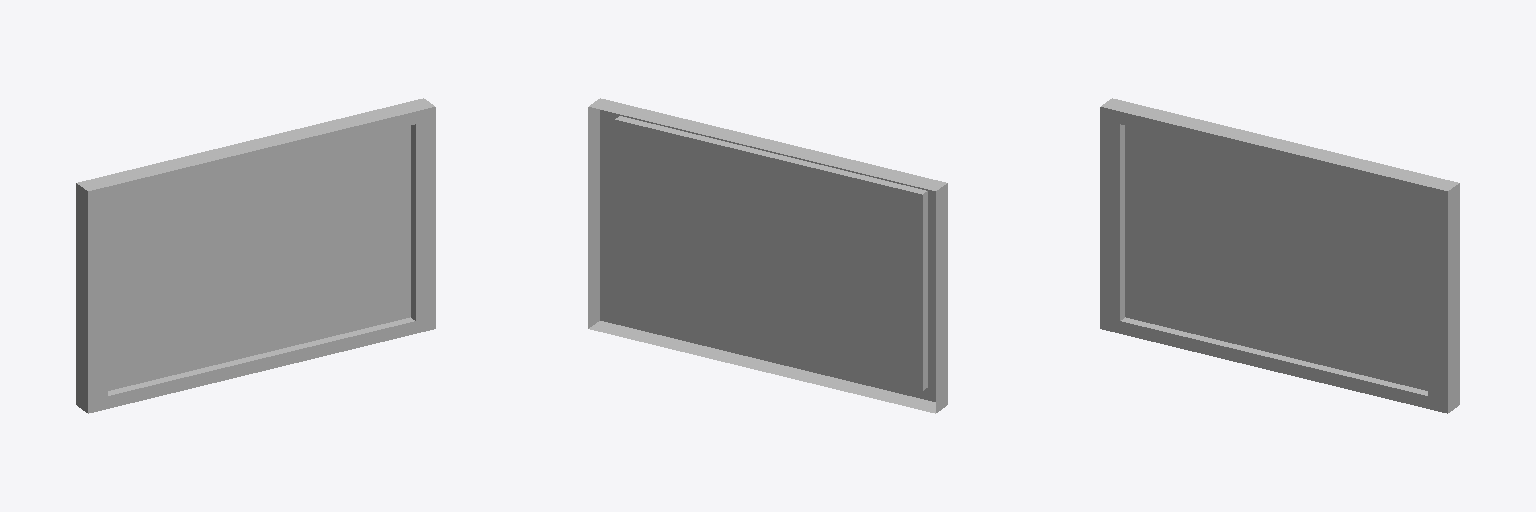
File: cuadro.obj
3 views of the same model, side by side, from view 1: azimuth 30°, elevation 25°; view 2: azimuth 150°, elevation 25°; view 3: azimuth 330°, elevation 25° (orthographic).
Parts seen in each view (by area): view 1: Cube.003_Cube.004; view 2: Cube.003_Cube.004; view 3: Cube.003_Cube.004.
Part boxes in pixels (x1,y1,x2,y2): Cube.003_Cube.004: (76, 98, 435, 413); Cube.003_Cube.004: (588, 98, 947, 413); Cube.003_Cube.004: (1100, 98, 1459, 413).
Bounding box in the file's own units: 3.83 × 2.34 × 0.2224.